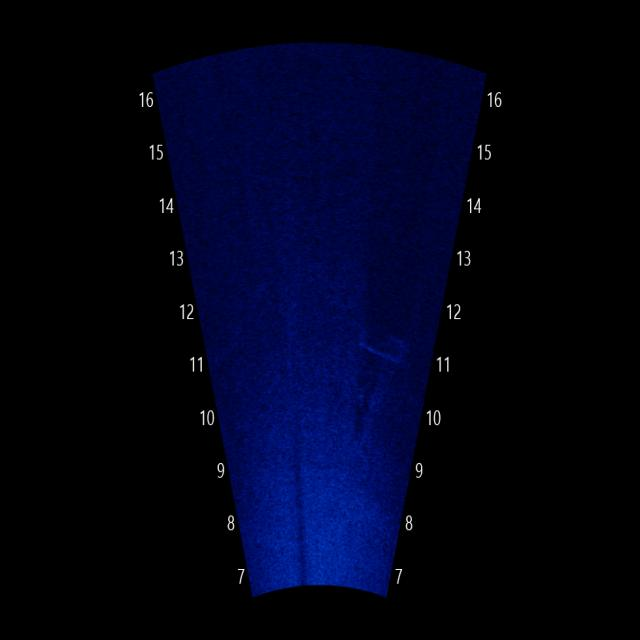circle: (324, 153, 369, 208)
triangle: (351, 309, 407, 458)
